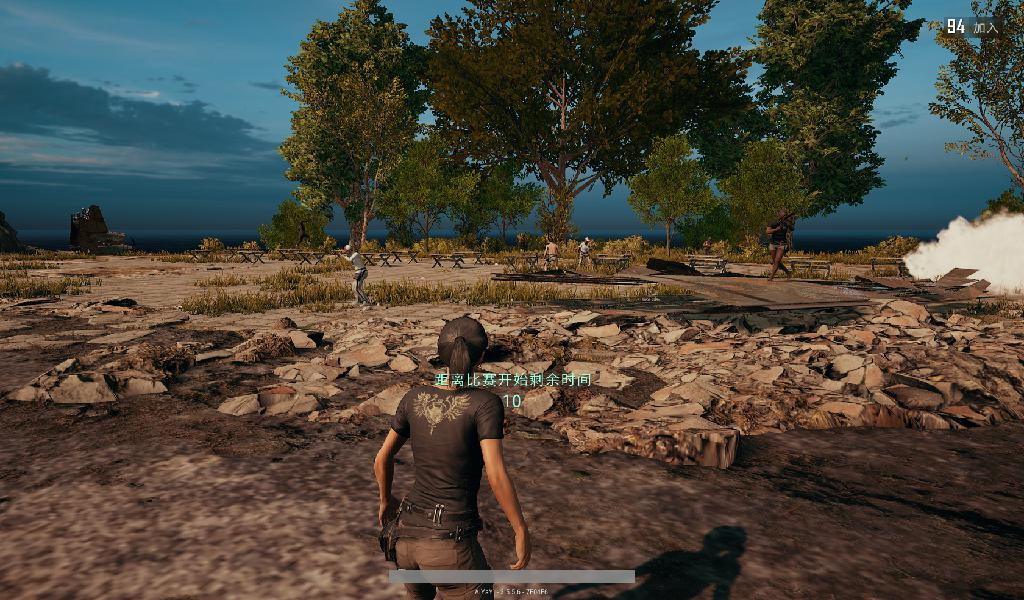Target Person: (372, 318, 531, 600), (332, 243, 371, 306), (765, 208, 794, 281), (542, 236, 561, 277), (576, 233, 594, 276)
